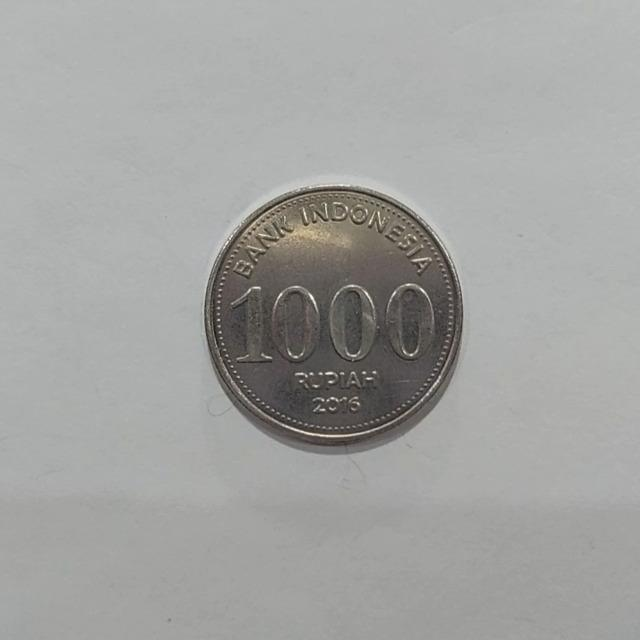Rp100: (202, 181, 464, 454)
